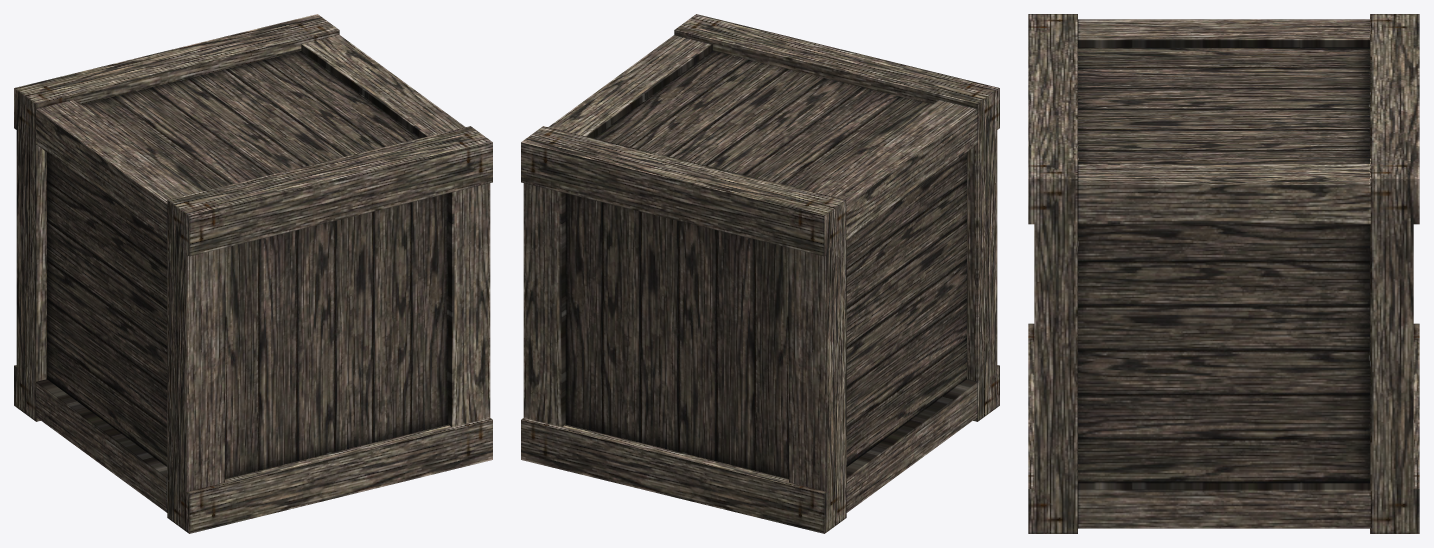
3 views of the same model, side by side, from view 1: azimuth 30°, elevation 25°; view 2: azimuth 150°, elevation 25°; view 3: azimuth 270°, elevation 25° (orthographic). The views are drawn at different scales.
Visible parts, largest first — view 1: Mesh4; view 2: Mesh4; view 3: Mesh4.
Part boxes in pixels (bbox=[...]): Mesh4: bbox=[14, 14, 492, 533]; Mesh4: bbox=[521, 14, 999, 533]; Mesh4: bbox=[1028, 14, 1419, 533].
Size of the model in its own units: 2 by 2 by 2.
Materials: 1 (1 with a texture image).
